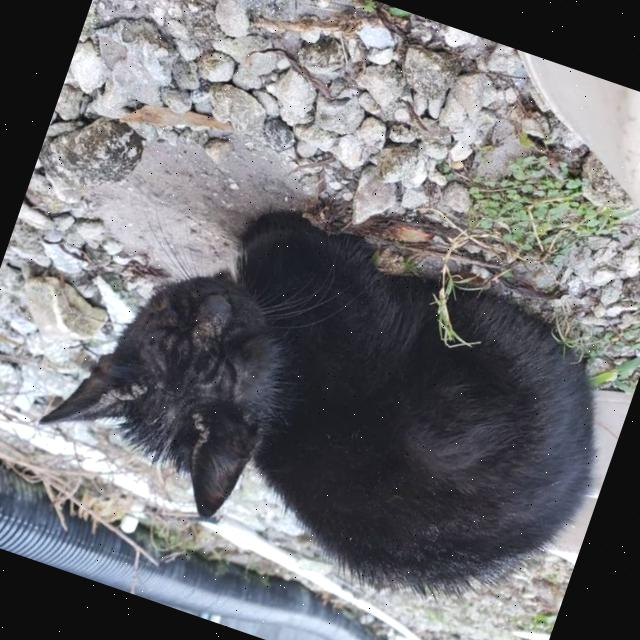cat-scabies: (29, 336, 159, 458), (156, 398, 266, 529), (136, 278, 256, 392)
